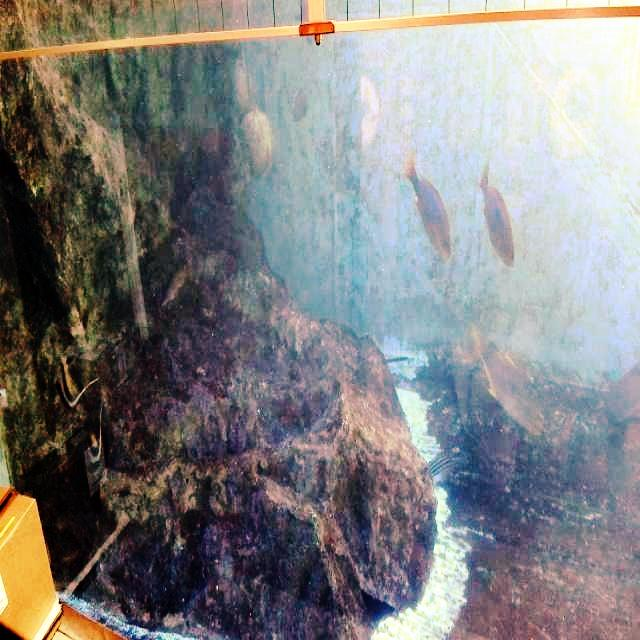angelfish: (48, 340, 104, 420), (82, 412, 110, 488)
gold snapper: (400, 149, 456, 271), (472, 153, 522, 281)
